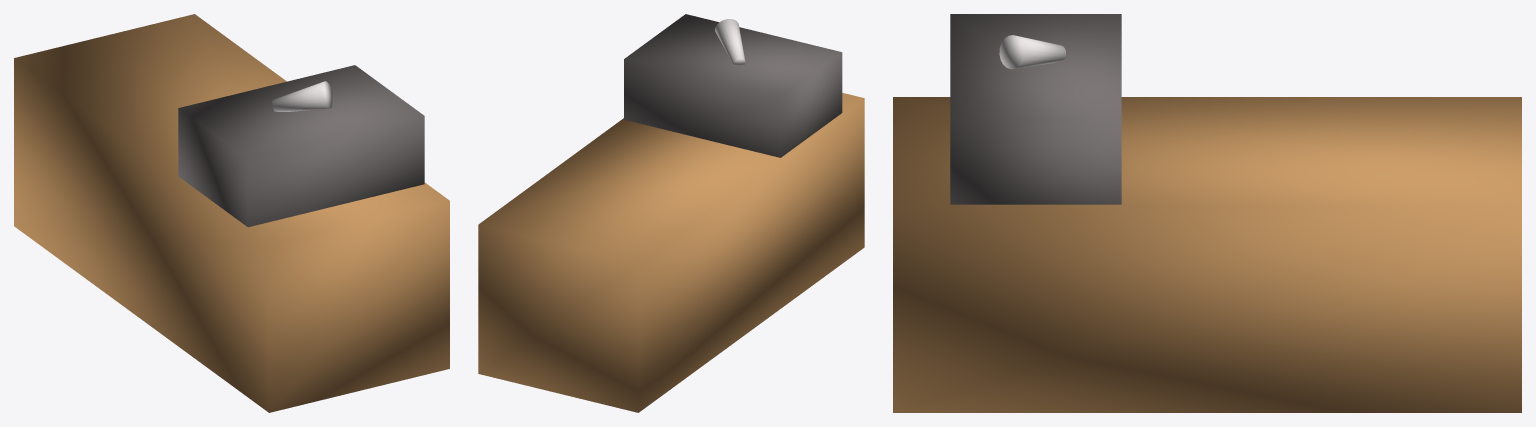
The model's file is locomotive.glb.
3 renders of one model, left to right at view 1: azimuth 30°, elevation 25°; view 2: azimuth 150°, elevation 25°; view 3: azimuth 270°, elevation 25°, orthographic. The views are drawn at different scales.
Visible parts, largest first — view 1: body, cab, horn; view 2: body, cab, horn; view 3: body, cab, horn.
Part boxes in pixels (box(x1,y1,x2,y2)): body: box(14, 14, 449, 412); cab: box(178, 65, 424, 227); horn: box(272, 81, 333, 111); body: box(478, 93, 864, 412); cab: box(624, 14, 842, 157); horn: box(715, 19, 745, 65); body: box(893, 97, 1521, 412); cab: box(950, 14, 1121, 204); horn: box(999, 35, 1065, 69).
Size of the model in its own units: 0.9 by 1.28 by 2.2.
